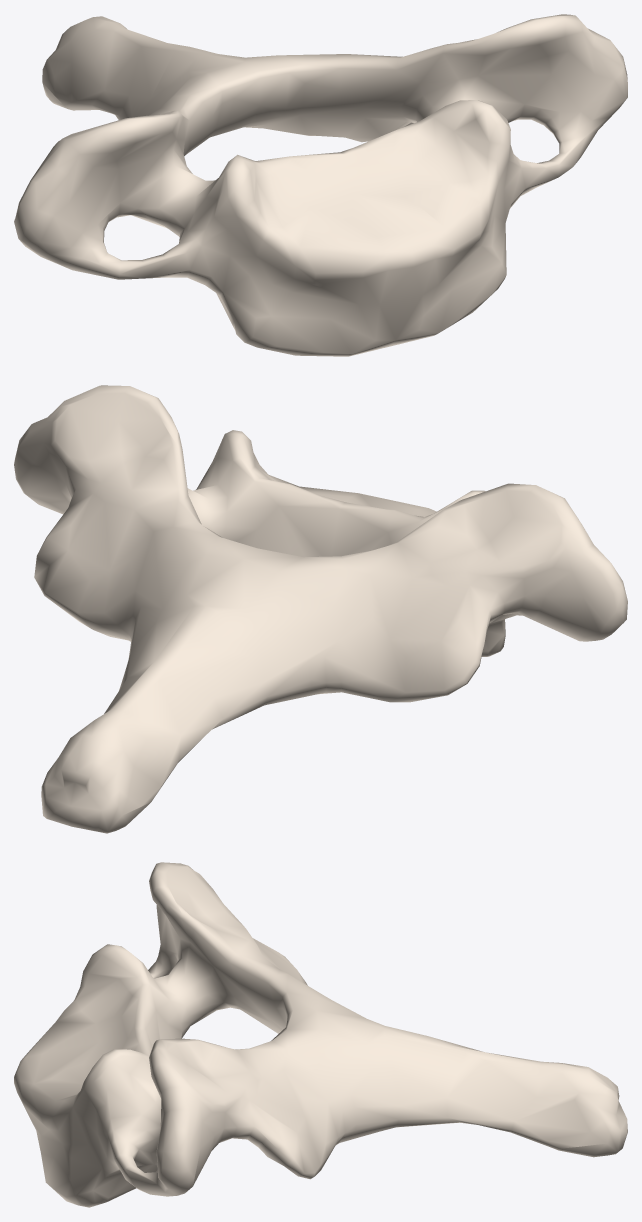
The picture shows the model from 3 angles, top to bottom: view 1: azimuth 30°, elevation 25°; view 2: azimuth 150°, elevation 25°; view 3: azimuth 270°, elevation 25°; orthographic projection. The views are drawn at different scales.
Visible parts, largest first — view 1: Cervical vertebrae (C7); view 2: Cervical vertebrae (C7); view 3: Cervical vertebrae (C7).
Boxes of the visible parts, left/top/right/bottom form: Cervical vertebrae (C7): left=14, top=14, right=627, bottom=356; Cervical vertebrae (C7): left=14, top=385, right=627, bottom=833; Cervical vertebrae (C7): left=14, top=862, right=627, bottom=1207.
Size of the model in its own units: 0.0718 by 0.0264 by 0.0699.
